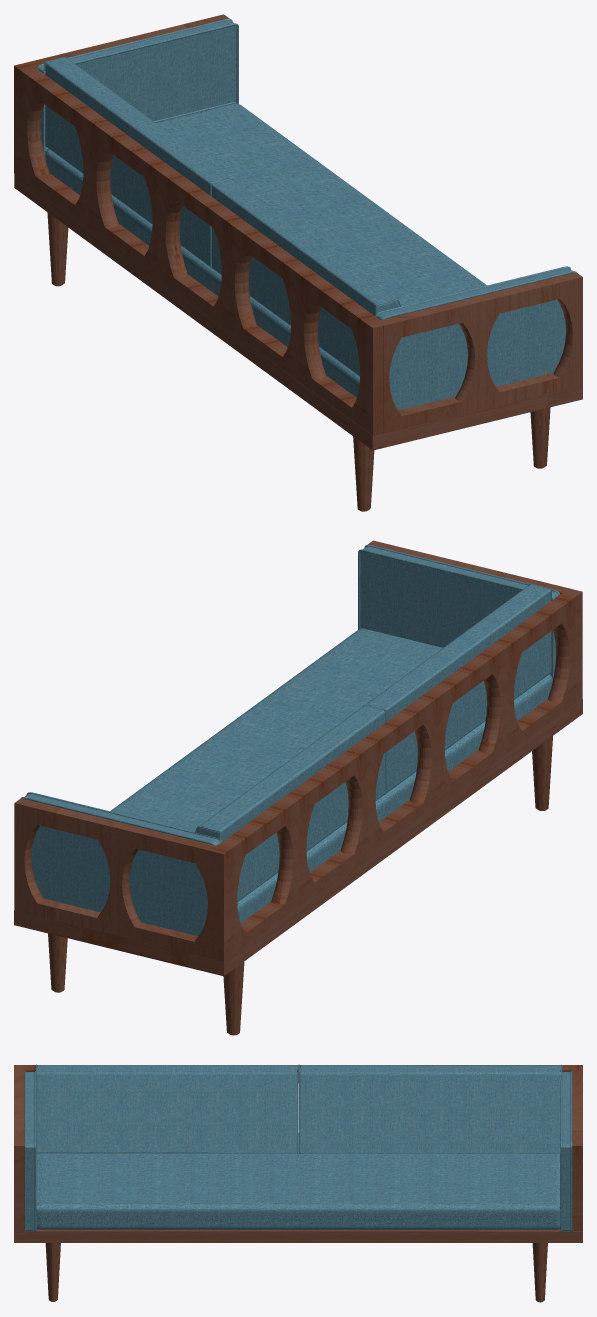
Rendered from CLEMANTINE DONE.glb.
3 views of the same model, one above another, from view 1: azimuth 30°, elevation 25°; view 2: azimuth 150°, elevation 25°; view 3: azimuth 270°, elevation 25° (orthographic). The views are drawn at different scales.
Visible parts, largest first — view 1: Cylinder.007, Cube.007, Cube.002, Cube.003, Cylinder.004, Cylinder.003, Cylinder.001; view 2: Cylinder.007, Cube.007, Cube.002, Cube.004, Cylinder.004, Cylinder.003, Cylinder.002; view 3: Cylinder.007, Cube.001, Cube.007, Cylinder.002, Cylinder.001.
Part boxes in pixels (x1,y1,x2,y2): Cylinder.007: [37, 18, 576, 410]; Cube.007: [14, 14, 582, 435]; Cube.002: [14, 174, 407, 450]; Cube.003: [408, 393, 547, 441]; Cylinder.004: [353, 436, 374, 511]; Cylinder.003: [47, 212, 68, 286]; Cylinder.001: [530, 407, 550, 468]; Cylinder.007: [21, 544, 559, 936]; Cube.007: [14, 540, 582, 961]; Cube.002: [188, 699, 582, 976]; Cube.004: [49, 919, 188, 967]; Cylinder.004: [532, 736, 552, 810]; Cylinder.003: [223, 962, 244, 1035]; Cylinder.002: [48, 933, 67, 992]; Cylinder.007: [24, 1064, 572, 1232]; Cube.001: [14, 1228, 582, 1242]; Cube.007: [14, 1065, 582, 1231]; Cylinder.002: [532, 1243, 547, 1302]; Cylinder.001: [45, 1243, 60, 1301].
Size of the model in its own units: 0.8106 by 0.7788 by 2.38.
2 materials, 2 textured.
